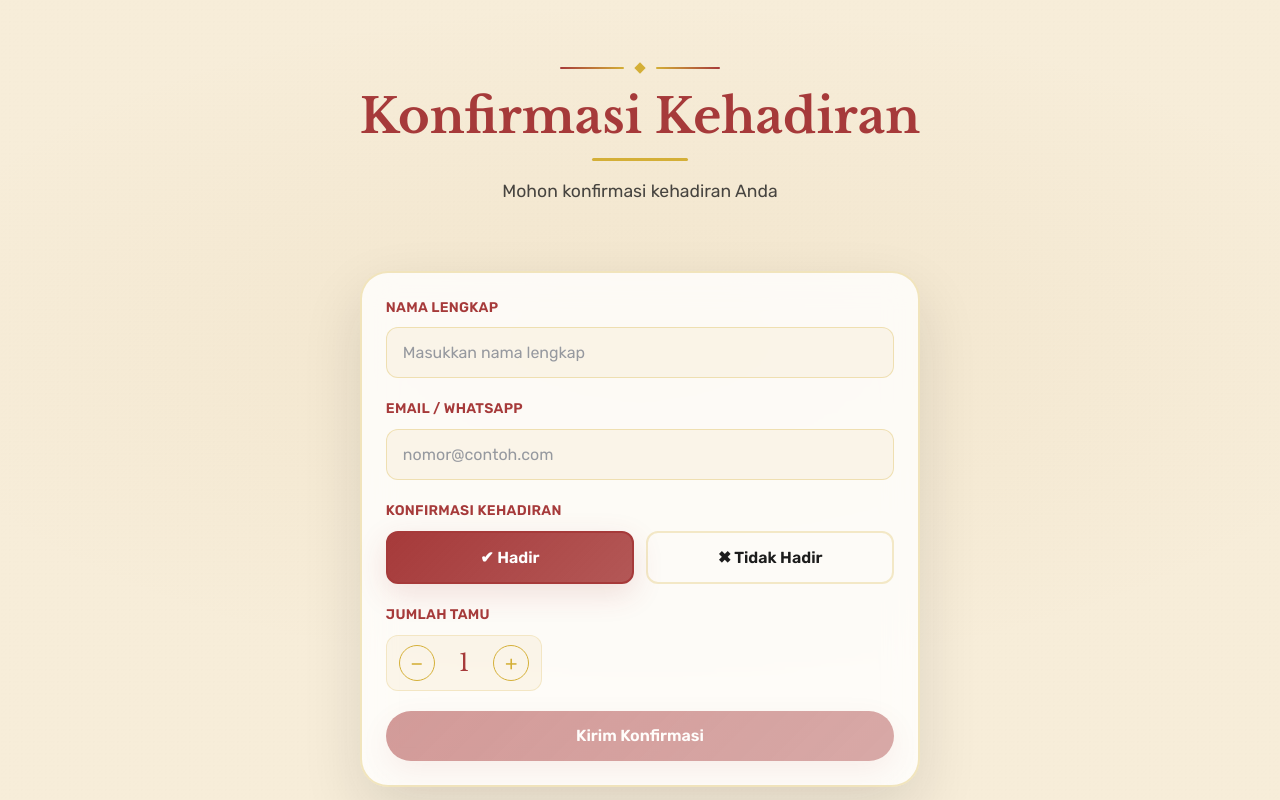
Test: RsvpComponent › should show success state after successful submission
The image size is (1280, 800).
Type "Test User" into the field with id "rsvp-name" at point(640, 353), box [386,327,894,378]
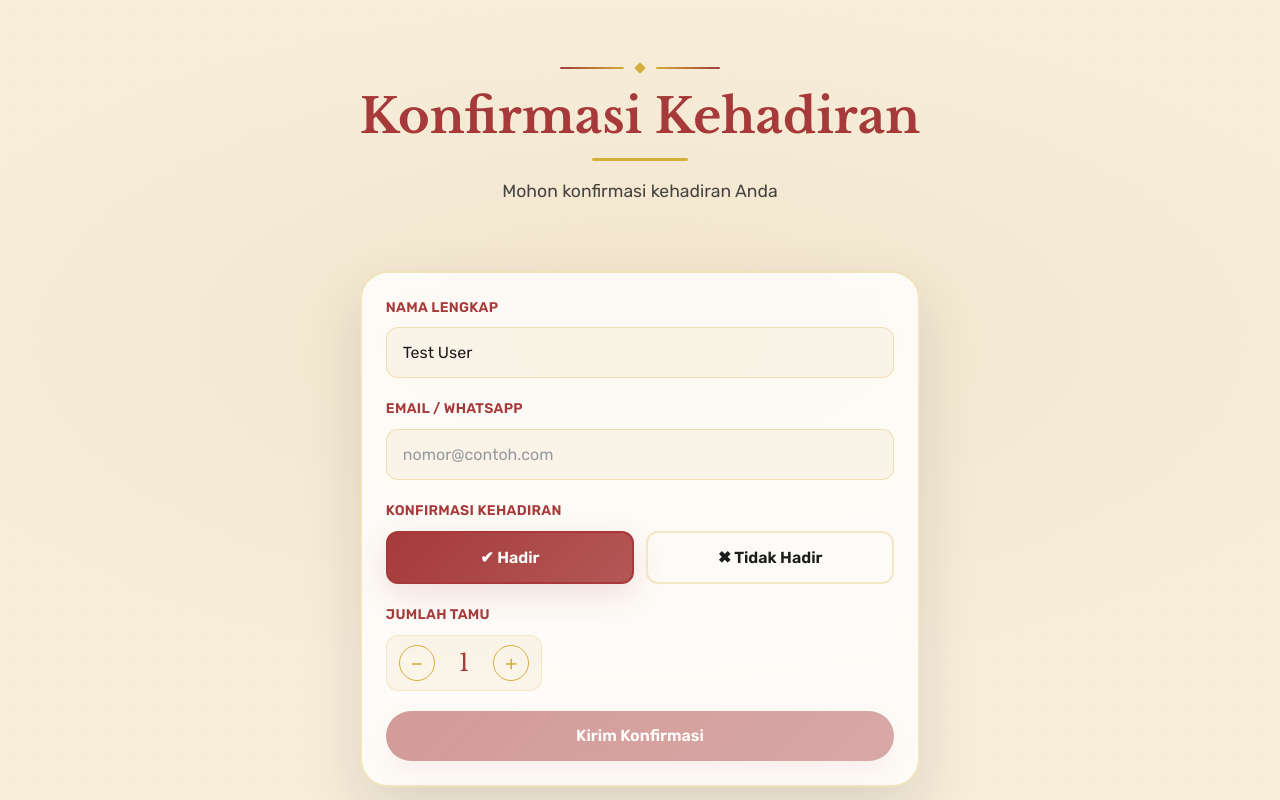
Type "test@example.com" into the field with id "rsvp-email" at point(640, 455), box [386,429,894,480]
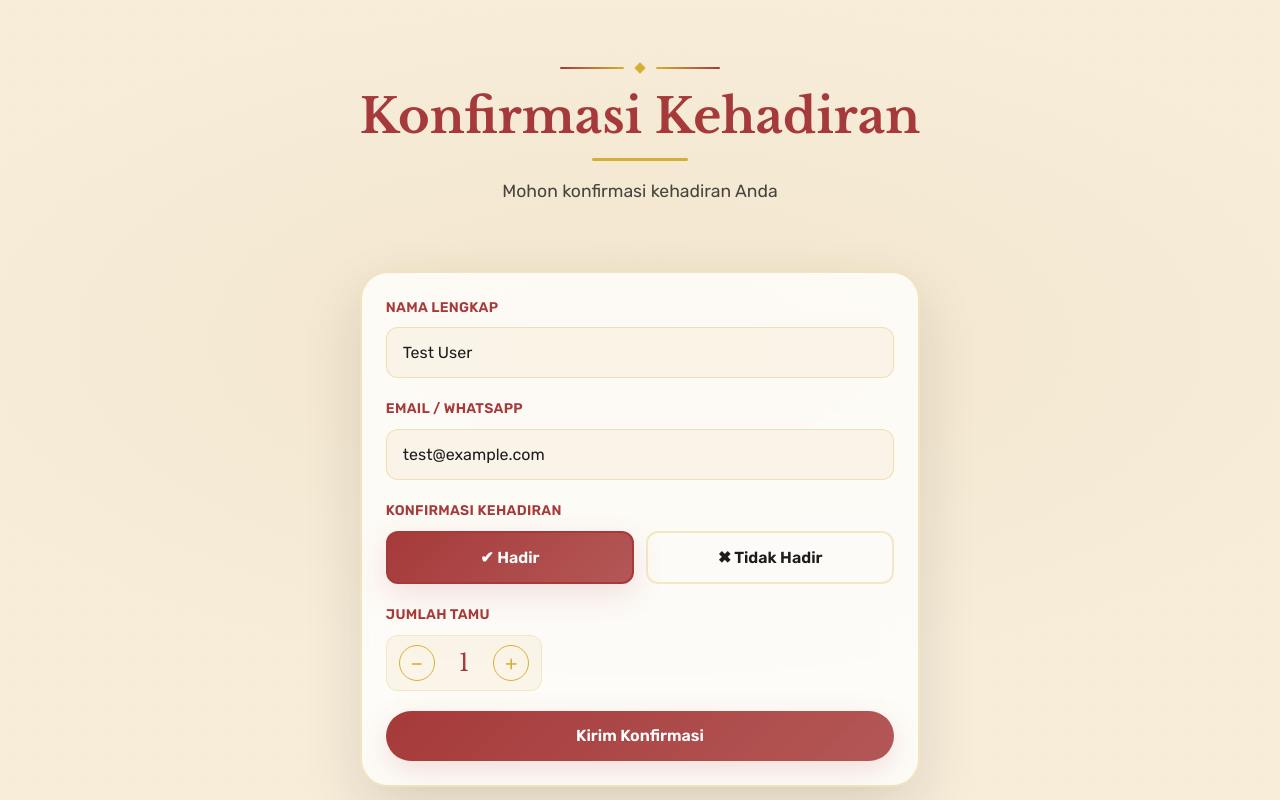
Click the button with class "rsvp__submit" at point(640, 736), box [386,711,894,761]
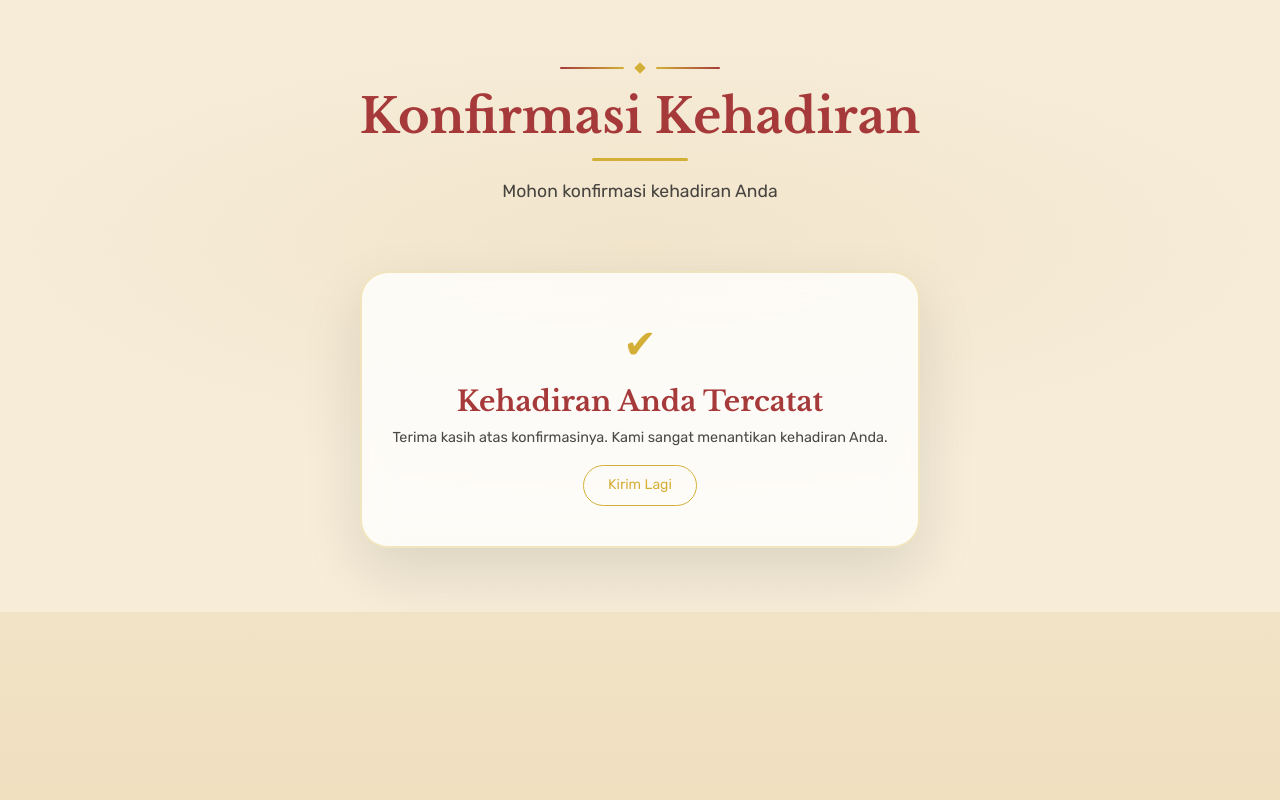
expect the heading with class "rsvp__success-title" shows "Tercatat": met, box [457,384,823,418]
